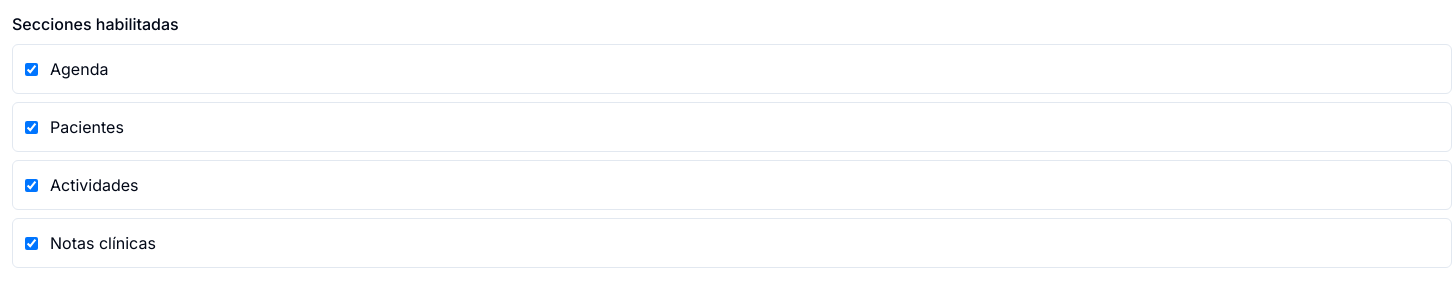
Test: SectionChecklist › unchecks the dependent sections when Pacientes is unchecked
Click the checkbox labelled "Pacientes" at [32, 127], box [25, 120, 38, 134]
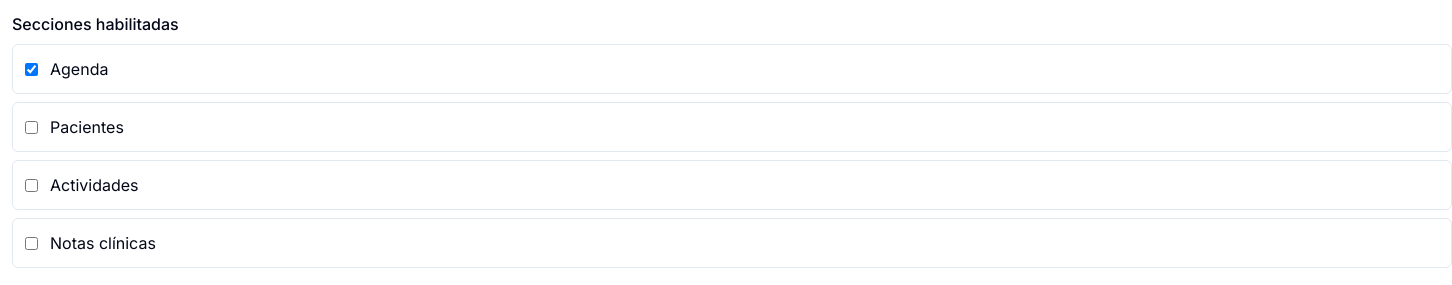
Expected: the checkbox labelled "Pacientes" is not checked, [25, 120, 38, 134]
Expected: the checkbox labelled "Actividades" is not checked, [25, 178, 38, 192]
Expected: the checkbox labelled "Notas clínicas" is not checked, [25, 236, 38, 250]
